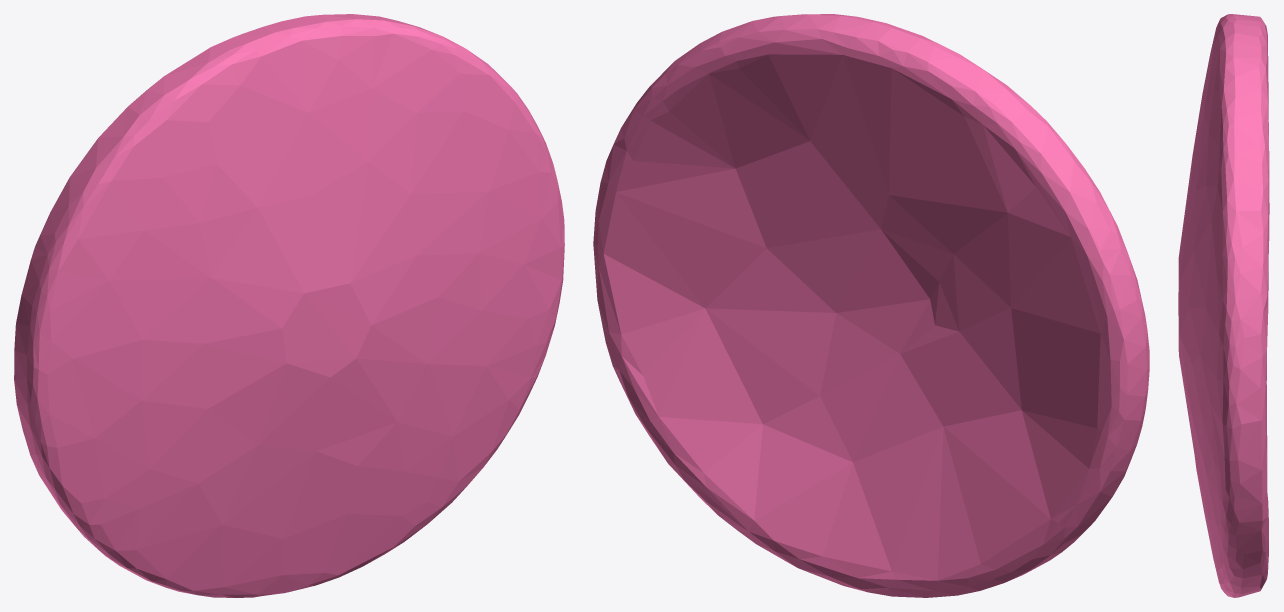
The model's file is part_0_Lid_wrapped.obj.
3 renders of one model, left to right at view 1: azimuth 30°, elevation 25°; view 2: azimuth 150°, elevation 25°; view 3: azimuth 270°, elevation 25°, orthographic. The views are drawn at different scales.
Parts seen in each view (by area): view 1: part_0_Lid_wrapped; view 2: part_0_Lid_wrapped; view 3: part_0_Lid_wrapped.
Part boxes in pixels (bbox=[...]): part_0_Lid_wrapped: bbox=[14, 14, 564, 597]; part_0_Lid_wrapped: bbox=[593, 14, 1149, 597]; part_0_Lid_wrapped: bbox=[1178, 14, 1269, 597].
Size of the model in its own units: 0.4215 by 0.4188 by 0.0655.
